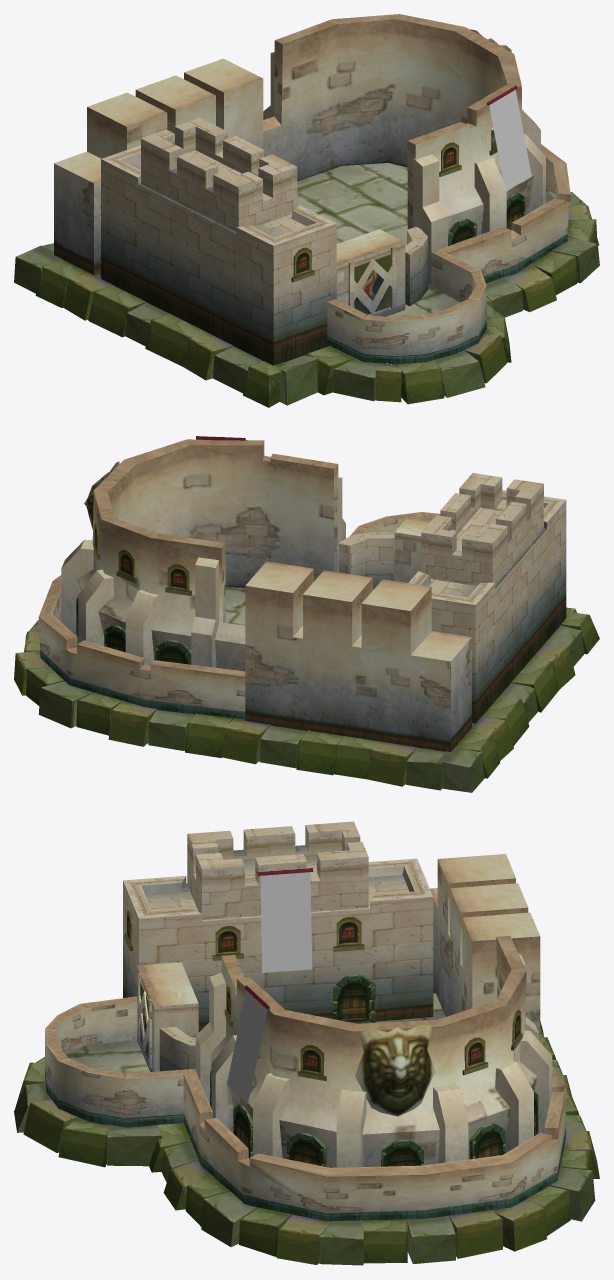
Rendered from majorcity_arena01.FBX.
The picture shows the model from 3 angles, top to bottom: view 1: azimuth 30°, elevation 25°; view 2: azimuth 150°, elevation 25°; view 3: azimuth 270°, elevation 25°; orthographic projection. The views are drawn at different scales.
Visible parts, largest first — view 1: majorcity_arena01; view 2: majorcity_arena01; view 3: majorcity_arena01.
Boxes of the visible parts, x1=… form: majorcity_arena01: x1=14, y1=14, x2=599, y2=407; majorcity_arena01: x1=14, y1=436, x2=599, y2=792; majorcity_arena01: x1=14, y1=821, x2=599, y2=1265.
Size of the model in its own units: 2.62 by 0.9586 by 2.44.
